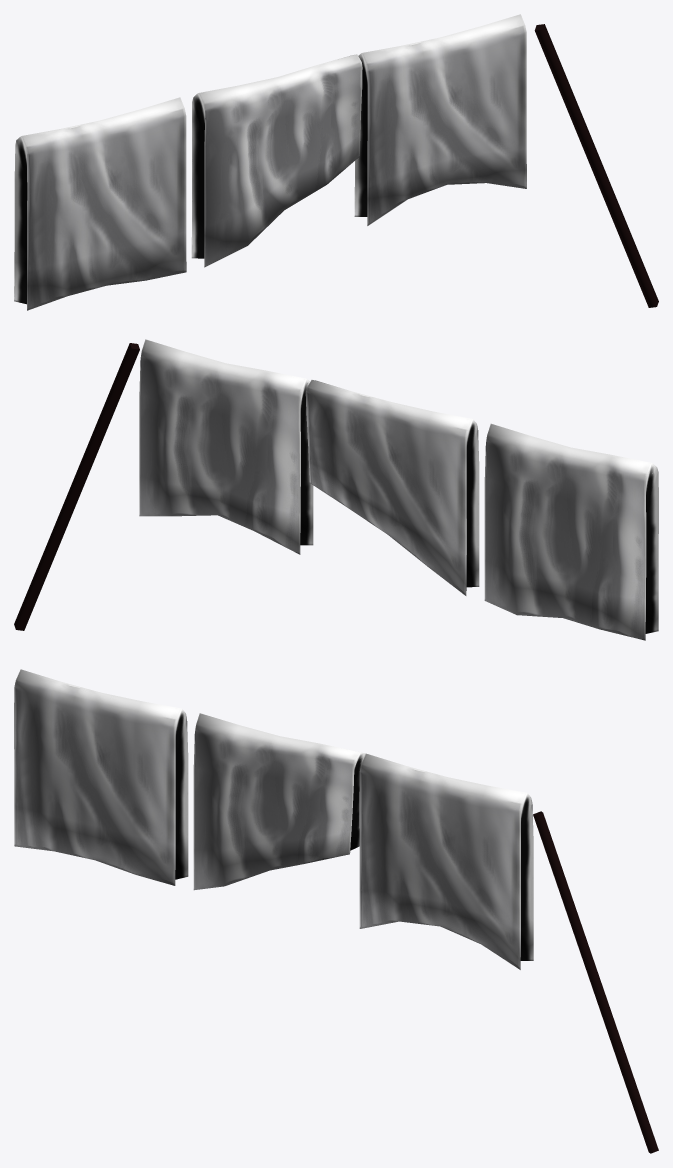
Rendered from LaundrySheet_Export.FBX.
3 views of the same model, one above another, from view 1: azimuth 30°, elevation 25°; view 2: azimuth 150°, elevation 25°; view 3: azimuth 330°, elevation 25° (orthographic).
Parts seen in each view (by area): view 1: LaundrySheet1, LaundrySheet003, LaundrySheet002, Cylinder001; view 2: LaundrySheet1, LaundrySheet003, LaundrySheet002, Cylinder001; view 3: LaundrySheet1, LaundrySheet003, LaundrySheet002, Cylinder001.
Boxes of the visible parts, <box> form: LaundrySheet1: <box>14,97,186,310</box>; LaundrySheet003: <box>354,14,526,225</box>; LaundrySheet002: <box>191,54,362,267</box>; Cylinder001: <box>534,24,658,307</box>; LaundrySheet1: <box>484,423,658,640</box>; LaundrySheet003: <box>139,339,313,554</box>; LaundrySheet002: <box>305,380,479,595</box>; Cylinder001: <box>14,343,139,630</box>; LaundrySheet1: <box>14,669,188,885</box>; LaundrySheet003: <box>359,753,533,969</box>; LaundrySheet002: <box>193,713,365,890</box>; Cylinder001: <box>533,811,658,1153</box>.
Size of the model in its own units: 281 by 136 by 20.59.
2 materials, 1 textured.
